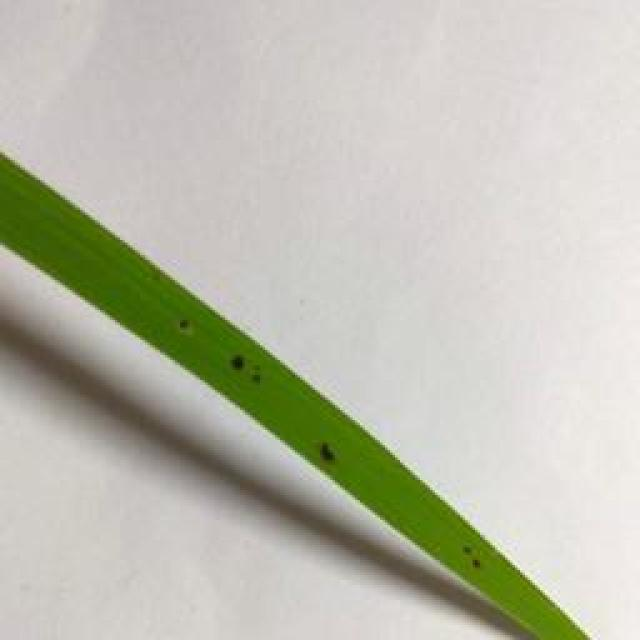Brown_Spot: (240, 353, 280, 406), (461, 541, 494, 583), (313, 438, 345, 472), (227, 345, 250, 375), (171, 317, 199, 338)
